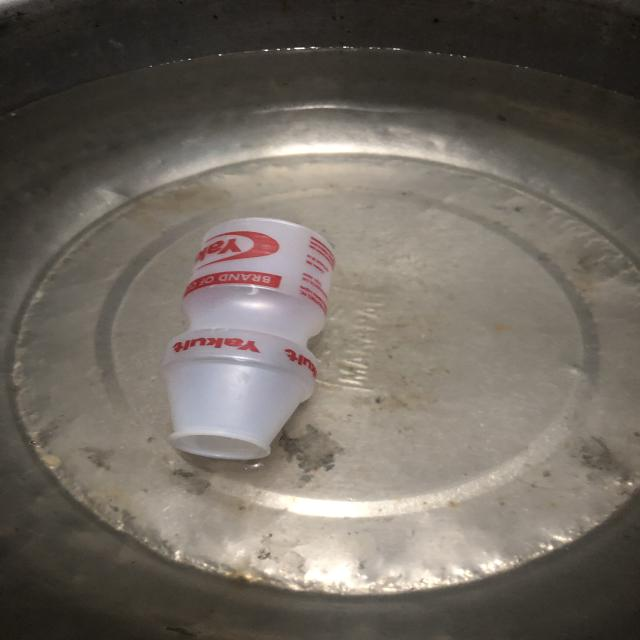Plastic Bottle: (161, 208, 357, 477)
